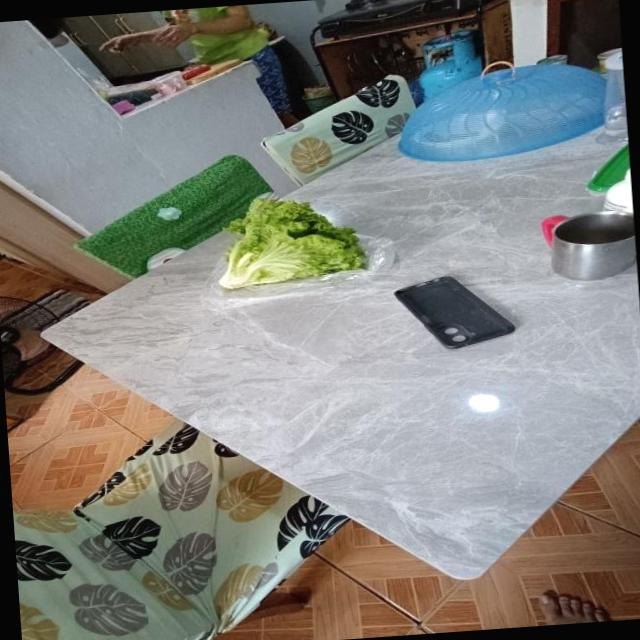Lettuce-Ready-to-Harvest: (220, 198, 365, 289)
